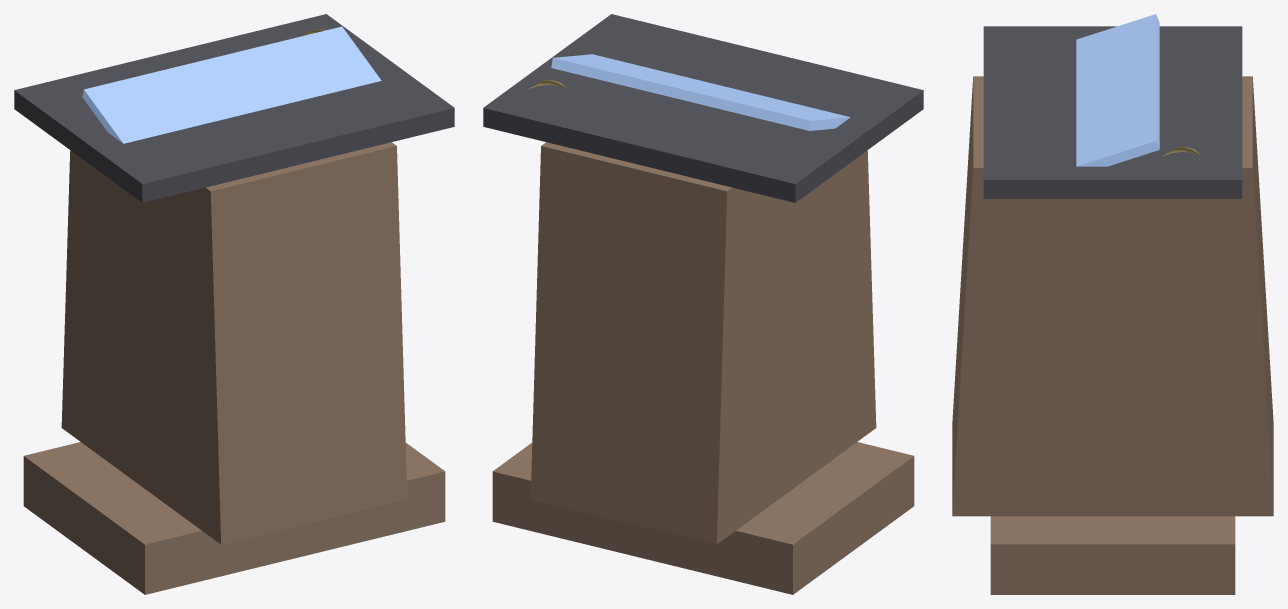
Rendered from casino-floor-and-back-rooms-pit-boss-podium-c38d5e05__27068.glb.
3 views of the same model, side by side, from view 1: azimuth 30°, elevation 25°; view 2: azimuth 150°, elevation 25°; view 3: azimuth 270°, elevation 25° (orthographic).
Visible parts, largest first — view 1: pit-boss-podium; view 2: pit-boss-podium; view 3: pit-boss-podium.
Part boxes in pixels (x1=…): pit-boss-podium: x1=14, y1=14, x2=454, y2=594; pit-boss-podium: x1=483, y1=14, x2=923, y2=594; pit-boss-podium: x1=952, y1=14, x2=1273, y2=594.
Size of the model in its own units: 1.04 by 1.4 by 0.92.
